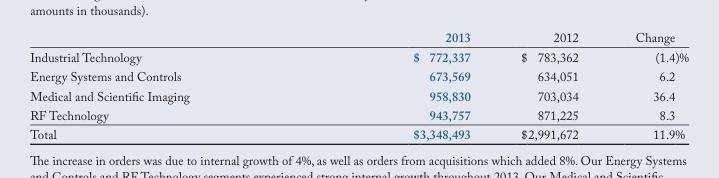table: (29, 28, 688, 147)
table column: (29, 28, 300, 147), (300, 28, 495, 147), (495, 28, 606, 147), (606, 28, 688, 147)
table column header: (29, 28, 688, 49)
table row: (29, 28, 688, 49), (29, 126, 688, 147), (29, 87, 688, 107), (29, 49, 688, 68), (29, 68, 688, 87), (29, 107, 688, 126)
